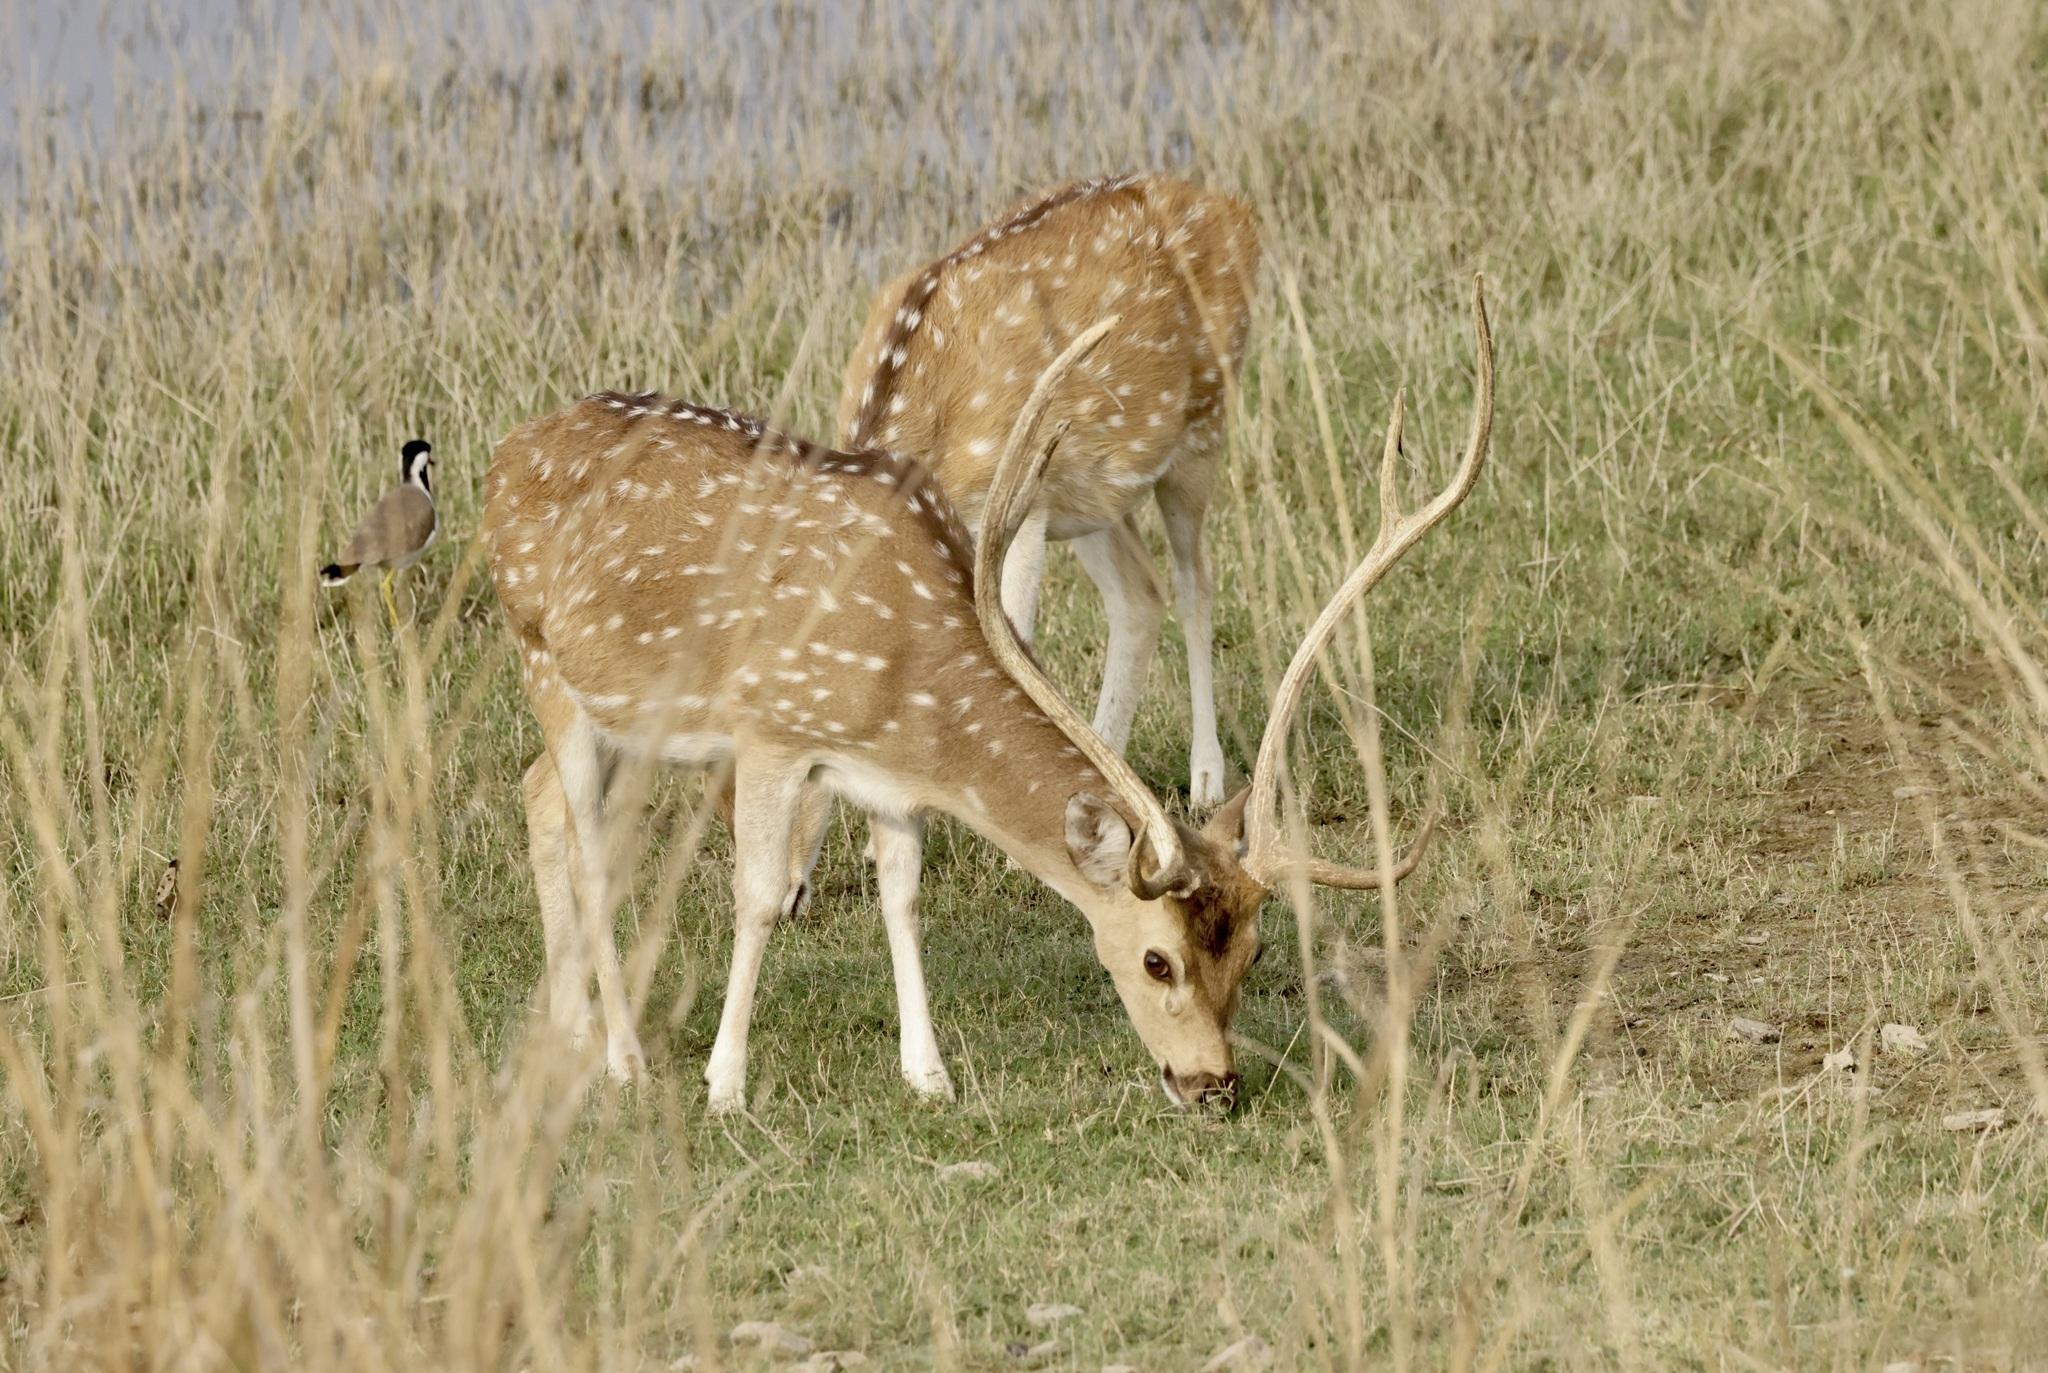Deer: (484, 320, 1490, 1109), (838, 175, 1262, 812)
